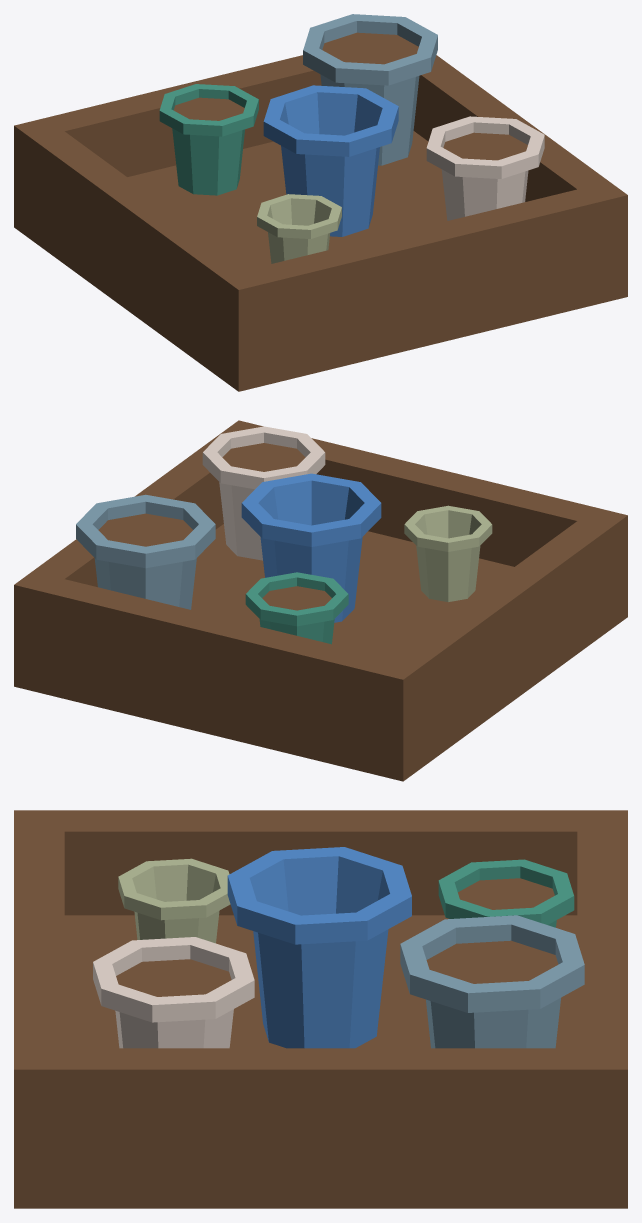
Rendered from Box_with_pots.fbx.
3 renders of one model, top to bottom at view 1: azimuth 30°, elevation 25°; view 2: azimuth 150°, elevation 25°; view 3: azimuth 270°, elevation 25°, orthographic. The views are drawn at different scales.
Visible parts, largest first — view 1: Box_with_pots; view 2: Box_with_pots; view 3: Box_with_pots.
Boxes of the visible parts, left/top/right/bottom form: Box_with_pots: left=14, top=14, right=627, bottom=391; Box_with_pots: left=14, top=420, right=627, bottom=781; Box_with_pots: left=14, top=810, right=627, bottom=1208.
Size of the model in its own units: 66.29 by 66.29 by 23.79.
